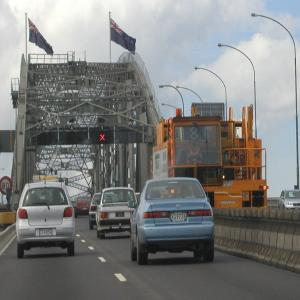Vehicle-registration-plate: (172, 212, 188, 223), (41, 229, 53, 237), (117, 212, 126, 218)
